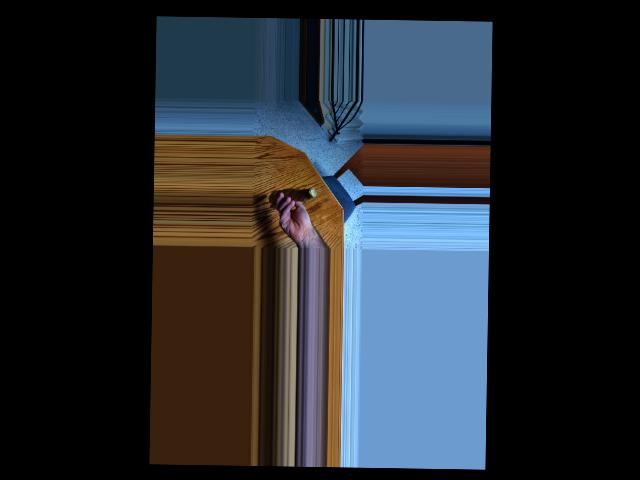sweet_potato: (269, 185, 317, 207)
